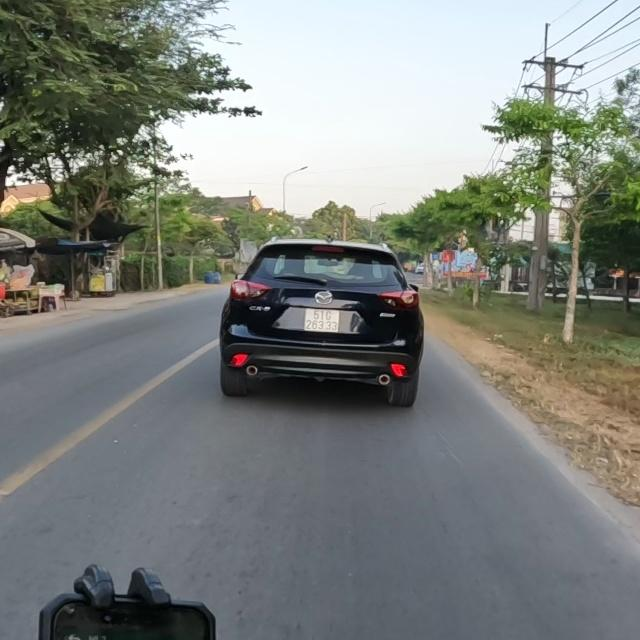license-plate: (303, 307, 341, 333)
